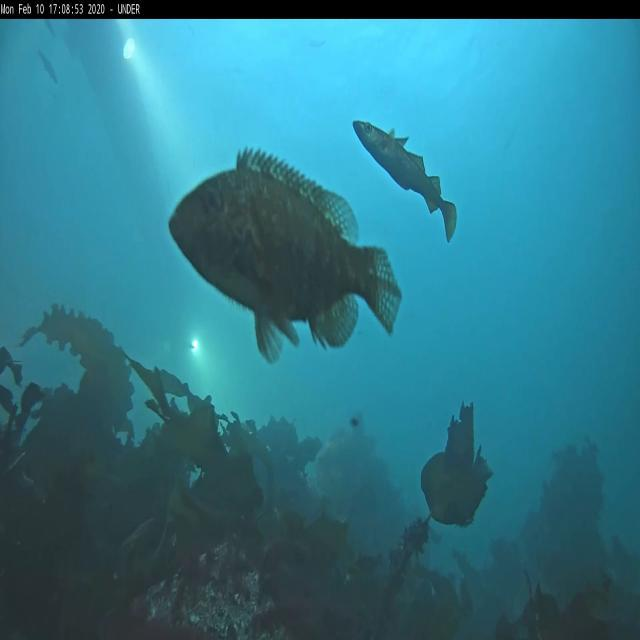fish: (166, 145, 402, 363), (352, 119, 457, 244), (36, 47, 56, 82)
